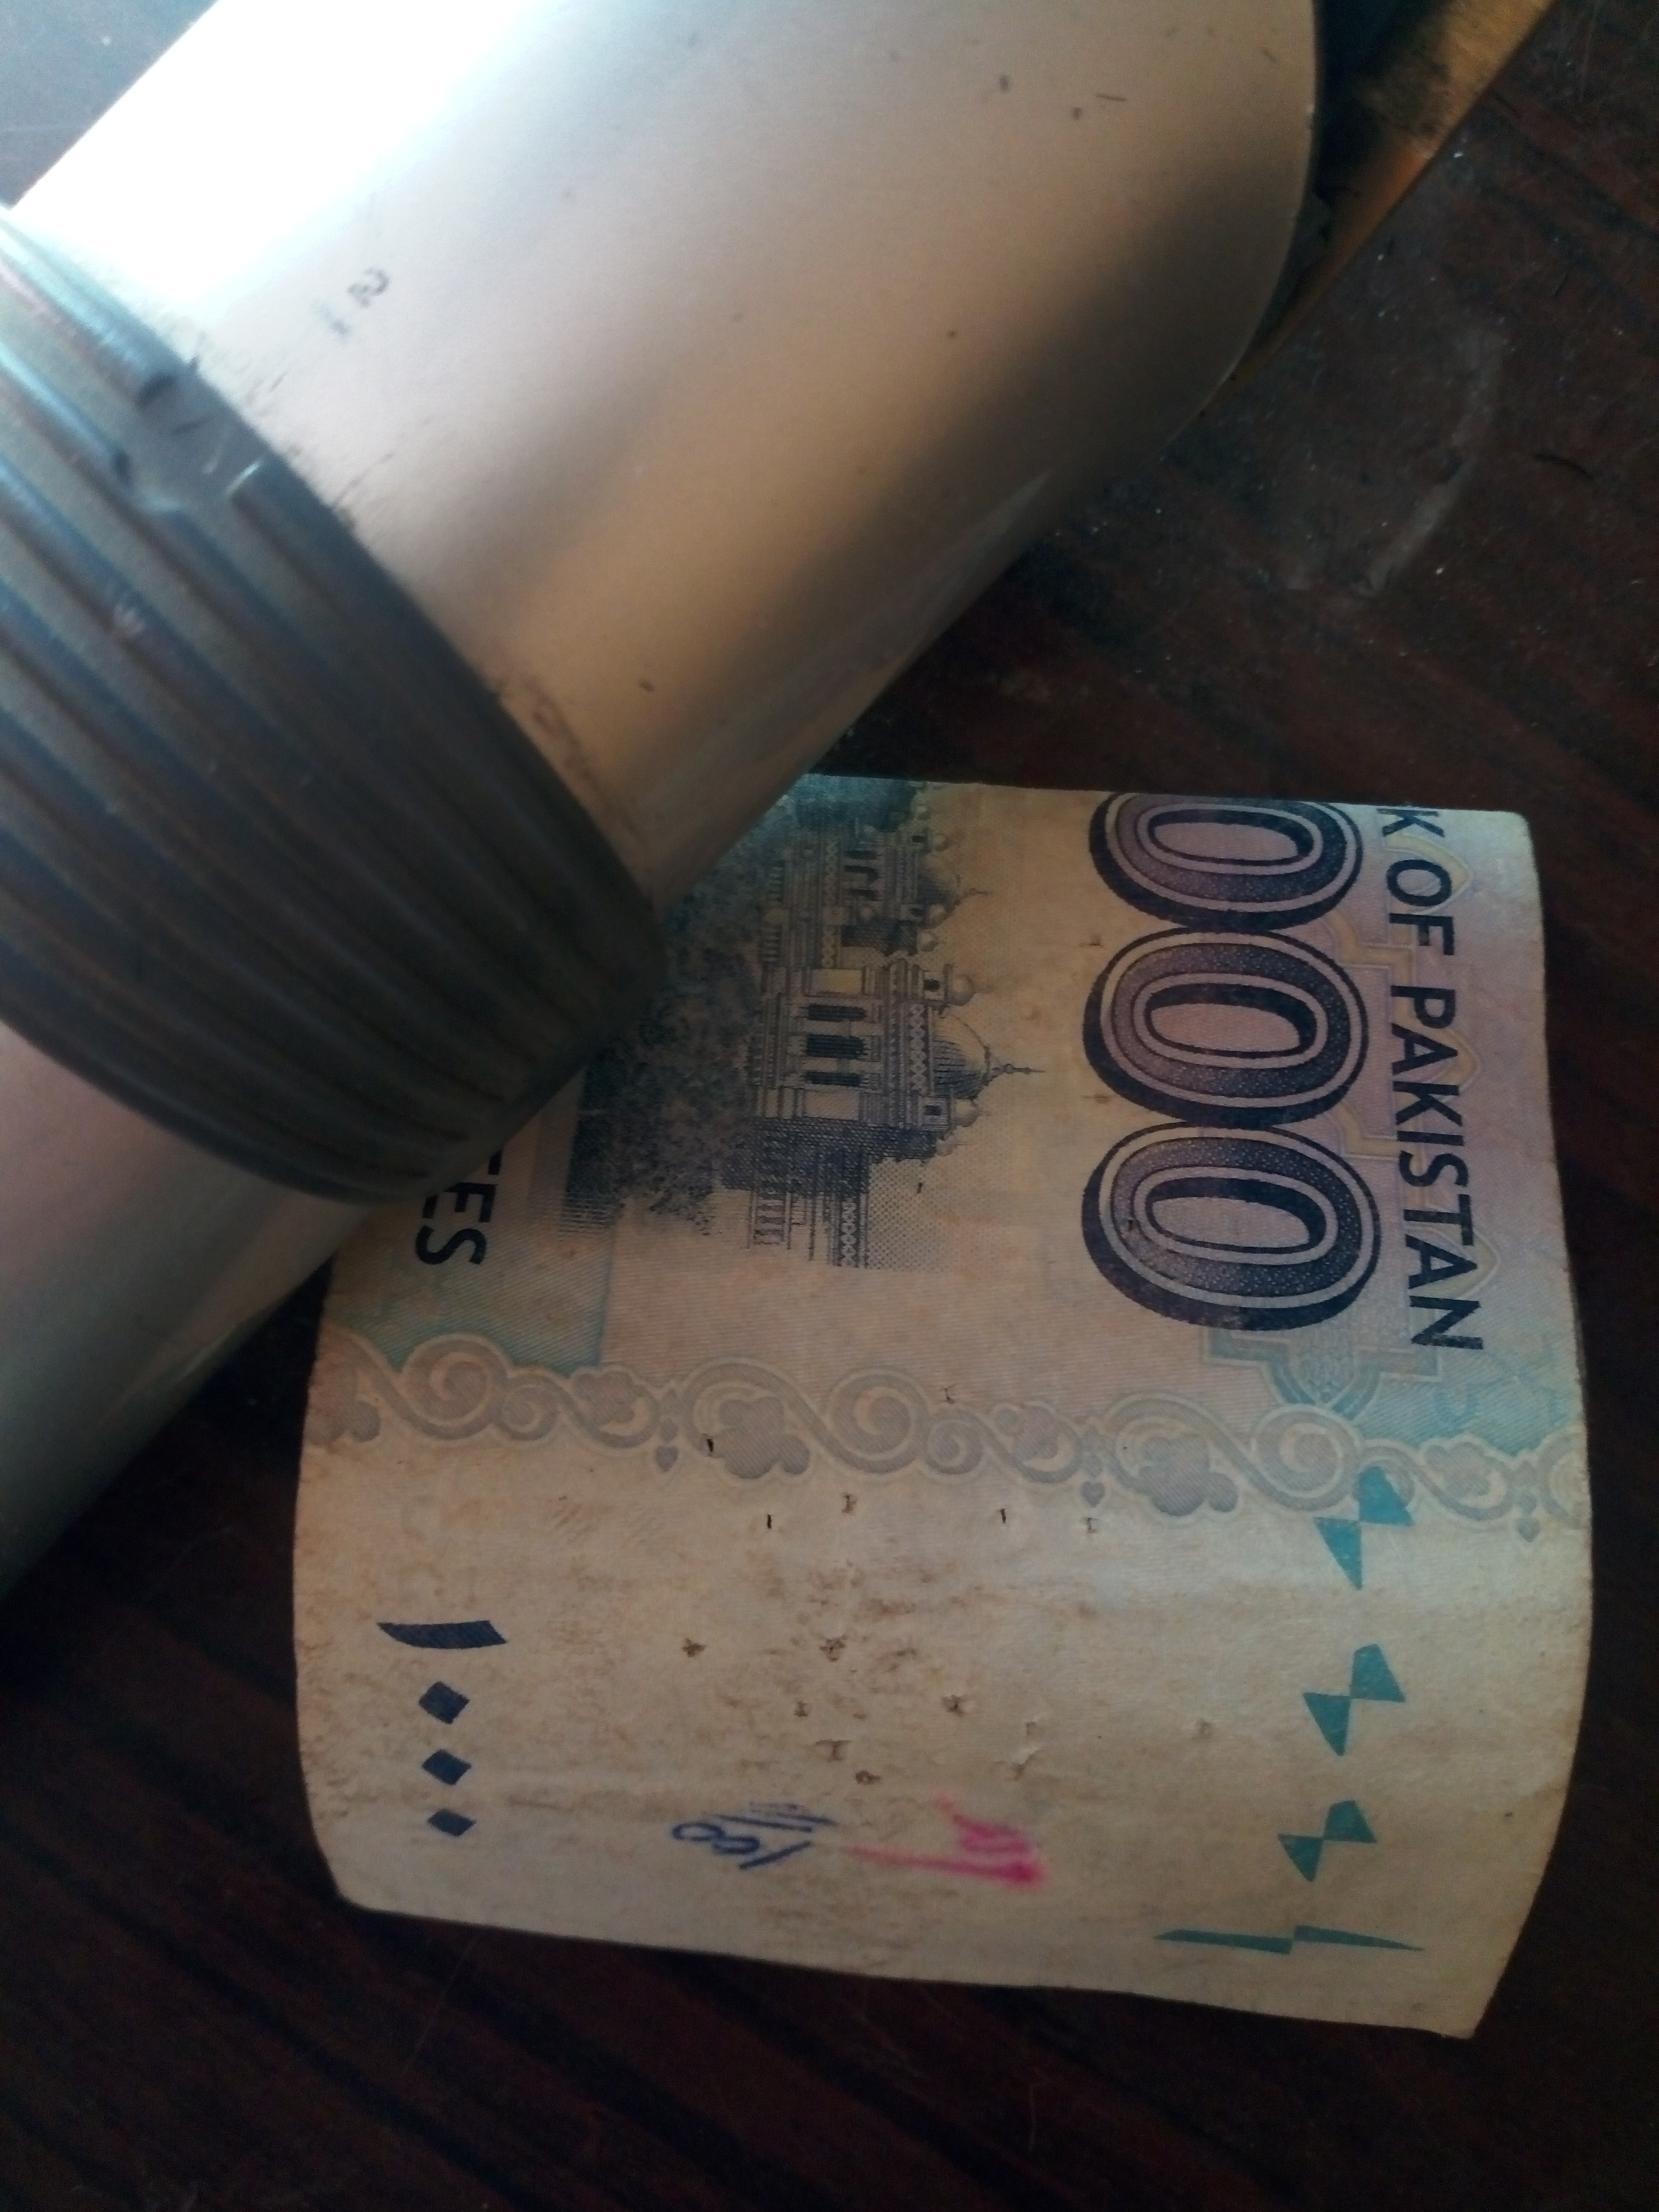1000 rupee: (110, 763, 1635, 2113), (312, 1595, 669, 1902)
